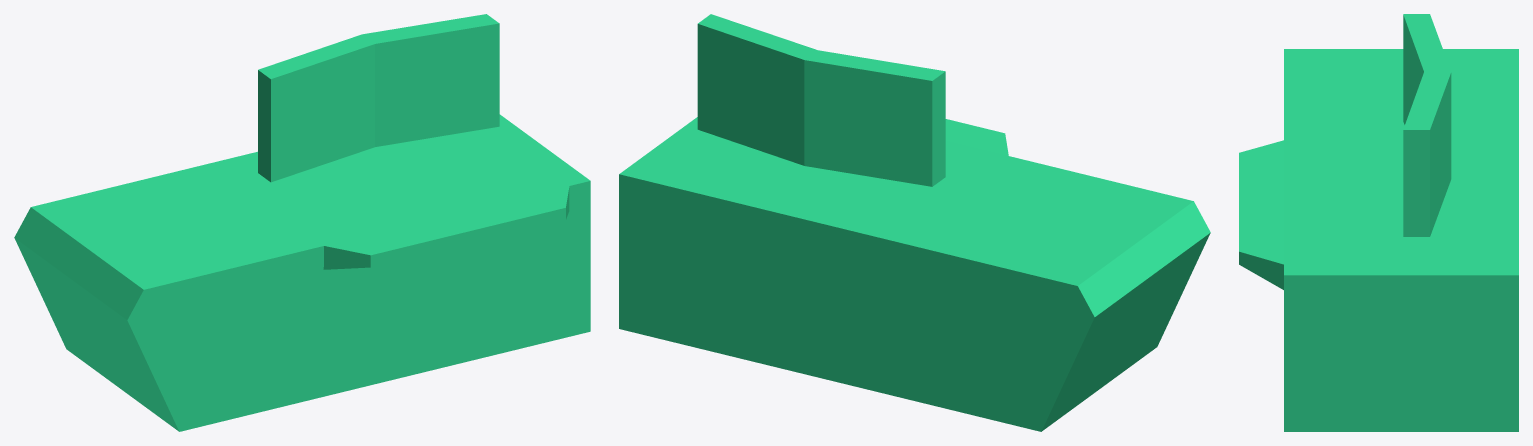
The model's file is ColDesk.fbx.
3 renders of one model, left to right at view 1: azimuth 30°, elevation 25°; view 2: azimuth 150°, elevation 25°; view 3: azimuth 270°, elevation 25°, orthographic. The views are drawn at different scales.
Visible parts, largest first — view 1: ColDesk; view 2: ColDesk; view 3: ColDesk.
Part boxes in pixels (x1,y1,x2,y2): ColDesk: [14, 14, 590, 431]; ColDesk: [619, 14, 1210, 431]; ColDesk: [1239, 14, 1518, 431].
Bounding box in the file's own units: 225 × 128 × 113.
